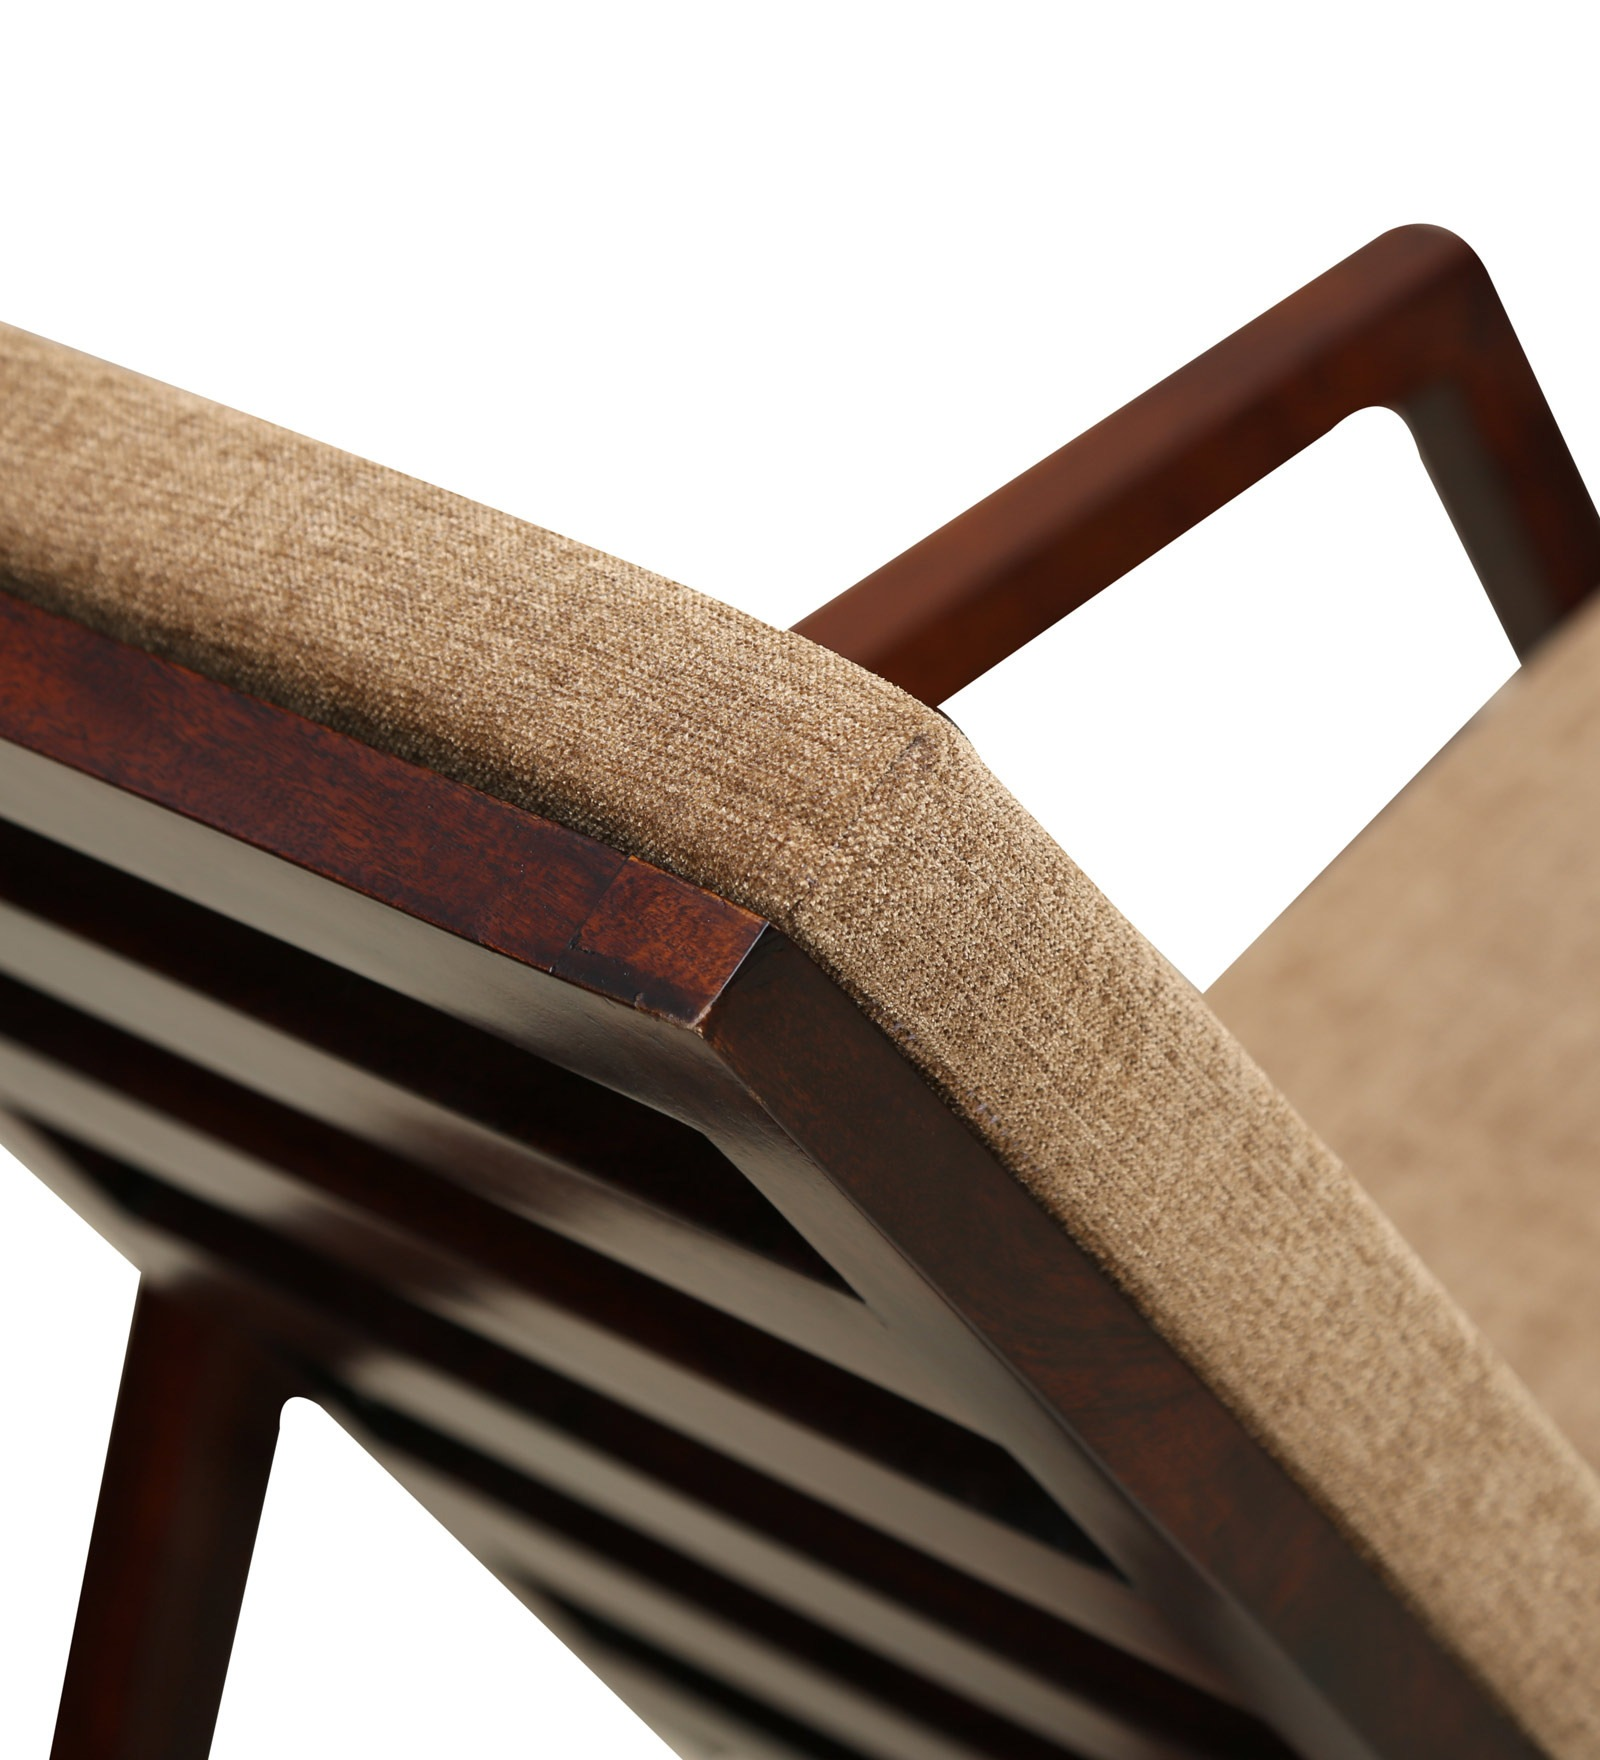Ace Rocking Chair in Brown Colour by HomeTown: (14, 277, 1589, 1760)
